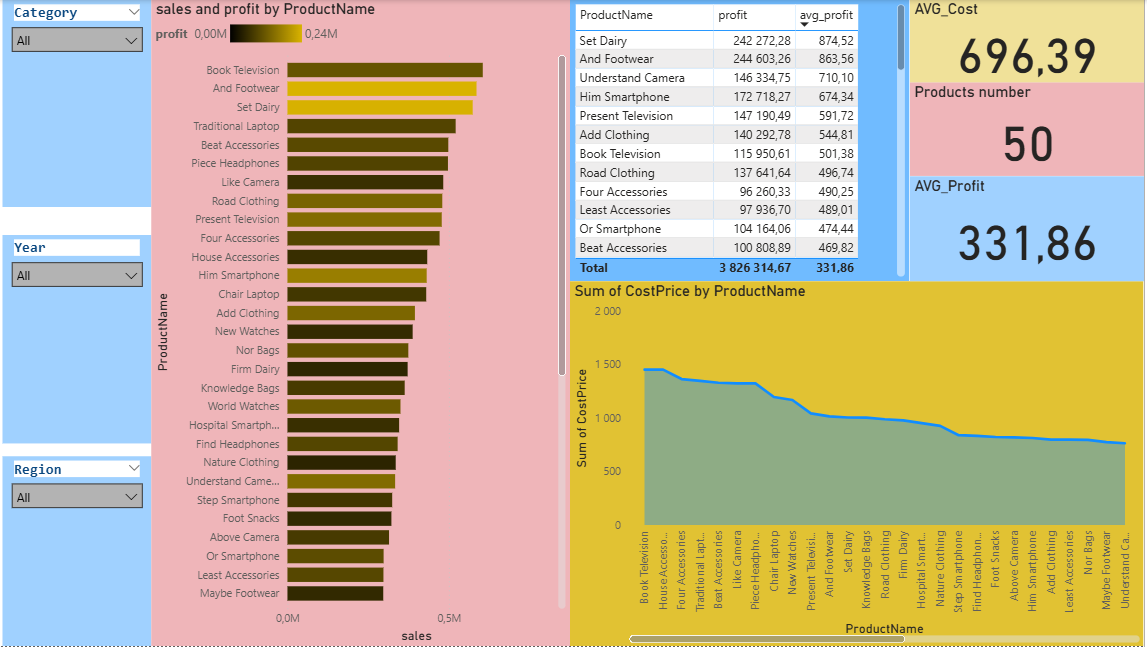

This screenshot's page, from the dashboard's own definition file:
{"tool":"powerbi","page":{"name":"Products_analysis","canvas":[1280,720],"ordinal":1},"visuals":[{"type":"slicer","fields":{"Values":["Products.Category"]},"box":[8.6,0,165.6,230.7],"z":0},{"type":"slicer","fields":{"Values":["Calendar.Year"]},"box":[8.3,231,165.6,232.3],"z":1000},{"type":"slicer","fields":{"Values":["Stores.Region"]},"box":[8.3,463.3,165.6,257.4],"z":2000},{"type":"card","title":"AVG_Cost","fields":{"Values":["Avg(Products.CostPrice)"]},"box":[1018.4,0,261.4,92],"z":3000},{"type":"card","title":"Products number","fields":{"Values":["Count(Products.ProductID)"]},"box":[1018.4,92,261.4,104.3],"z":4000},{"type":"clusteredBarChart","title":"sales by ProductName","fields":{"Category":["Products.ProductName"],"Y":["Transactions.sales"]},"box":[174.2,0,466.3,720.2],"z":5000},{"type":"tableEx","fields":{"Values":["Products.ProductName","Transactions.profit","Transactions.avg_profit"]},"box":[640.5,0,377.9,312.9],"z":6000},{"type":"stackedAreaChart","fields":{"Category":["Products.Category Hierarchy.Category","Products.Category Hierarchy.SubCategory"],"Y":["Sum(Products.CostPrice)"]},"box":[640.5,312.9,639.3,407.4],"z":7000},{"type":"card","title":"AVG_Profit","fields":{"Values":["Transactions.avg_profit"]},"box":[1018.4,196.3,261.4,116.6],"z":8000}]}

Visuals, with their boxes in screenshot pixels (x1, y1, x2, y2), scaled from the page's 1280x720 canvas onto the 1147x647 screenshot:
slicer - Products.Category: (8,0,156,207)
slicer - Calendar.Year: (7,208,156,416)
slicer - Stores.Region: (7,416,156,646)
"AVG_Cost" card: (913,0,1146,83)
"Products number" card: (913,83,1146,176)
"sales by ProductName" clusteredBarChart: (156,0,574,646)
tableEx - Products.ProductName x Transactions.profit: (574,0,913,281)
stackedAreaChart - Products.Category Hierarchy.Category x Products.Category Hierarchy.SubCategory: (574,281,1146,646)
"AVG_Profit" card: (913,176,1146,281)
